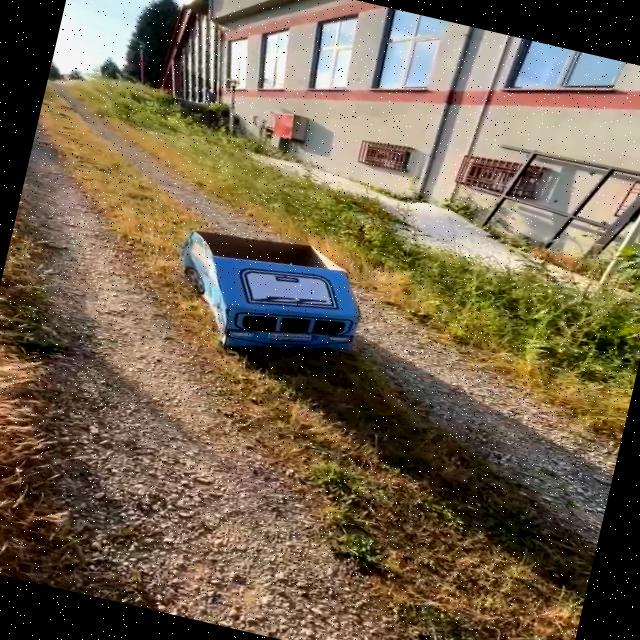blue_car: (109, 192, 427, 396)
